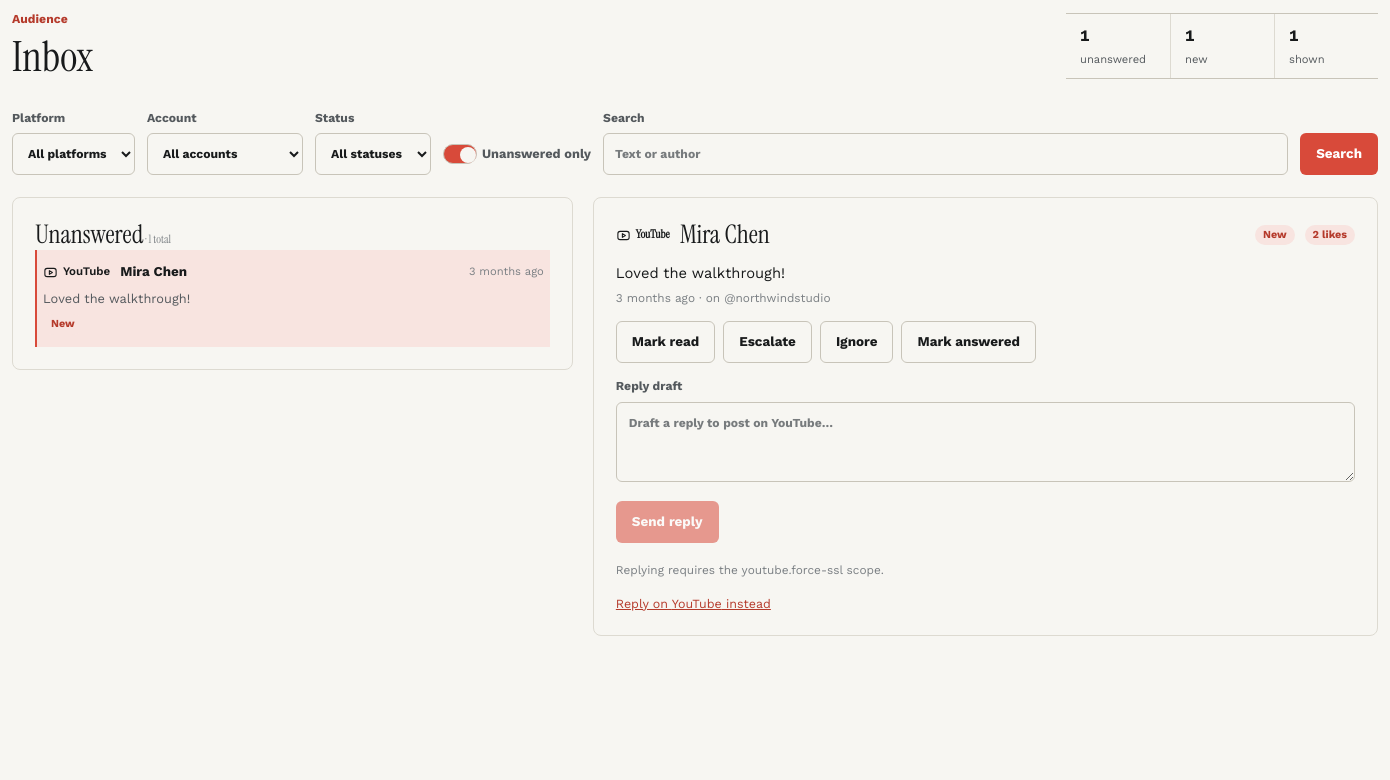
Test: InboxWorkspace › patches status optimistically and rolls back on failure
Click the button "Escalate": (768, 342) top-left (723, 321), bottom-right (812, 363)
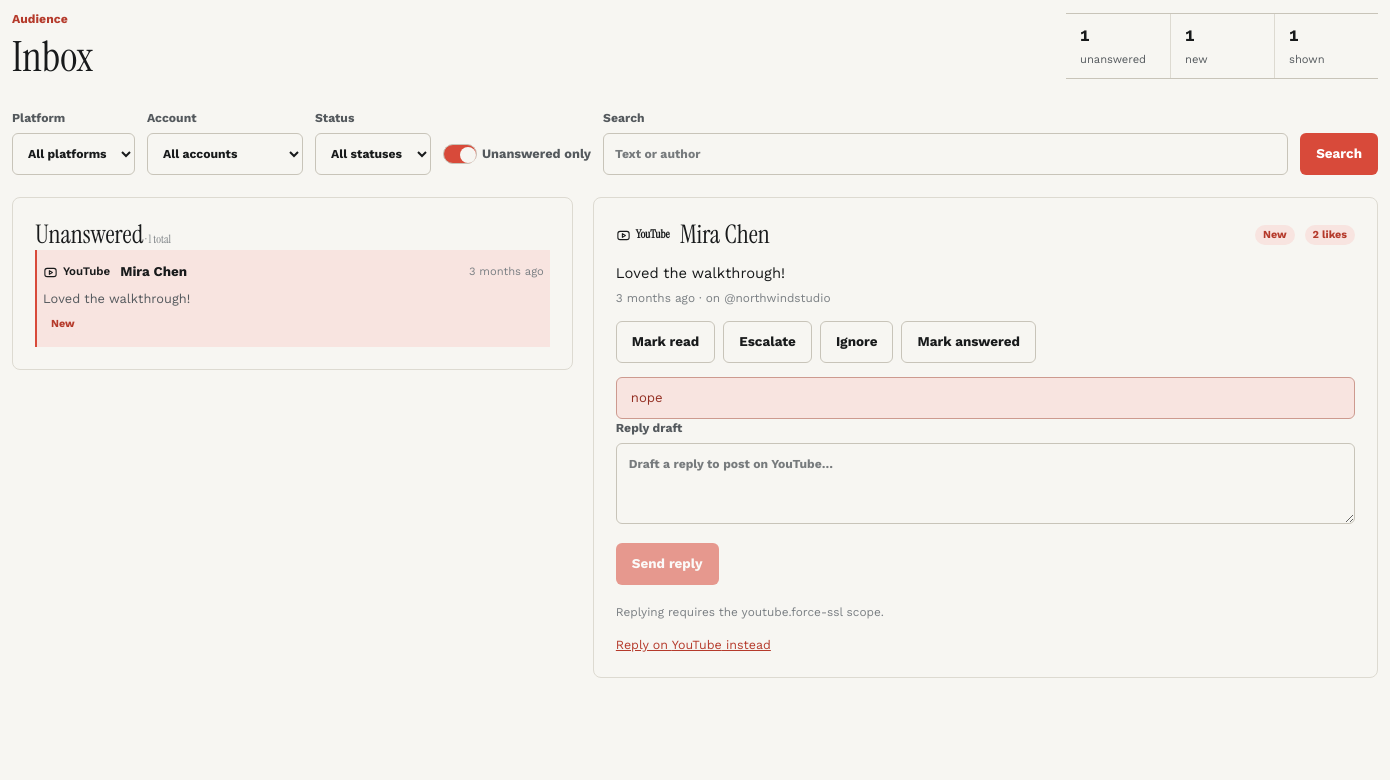
Result: the text "nope" is shown at top-left (616, 377), bottom-right (1355, 419)
